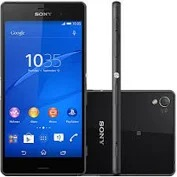sony: (1, 1, 86, 177)
